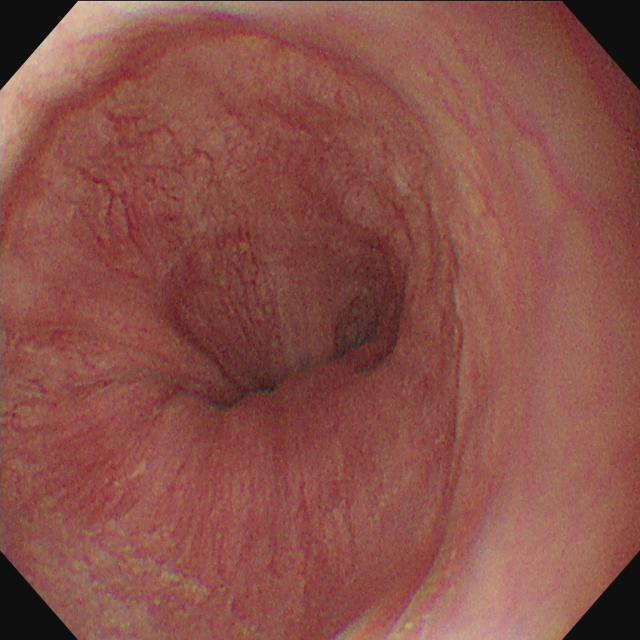I: (191, 280, 400, 442)
